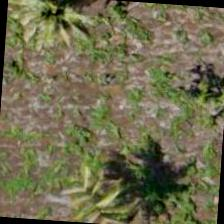Kelapa_Sawit: (54, 160, 150, 223), (8, 0, 103, 63)
